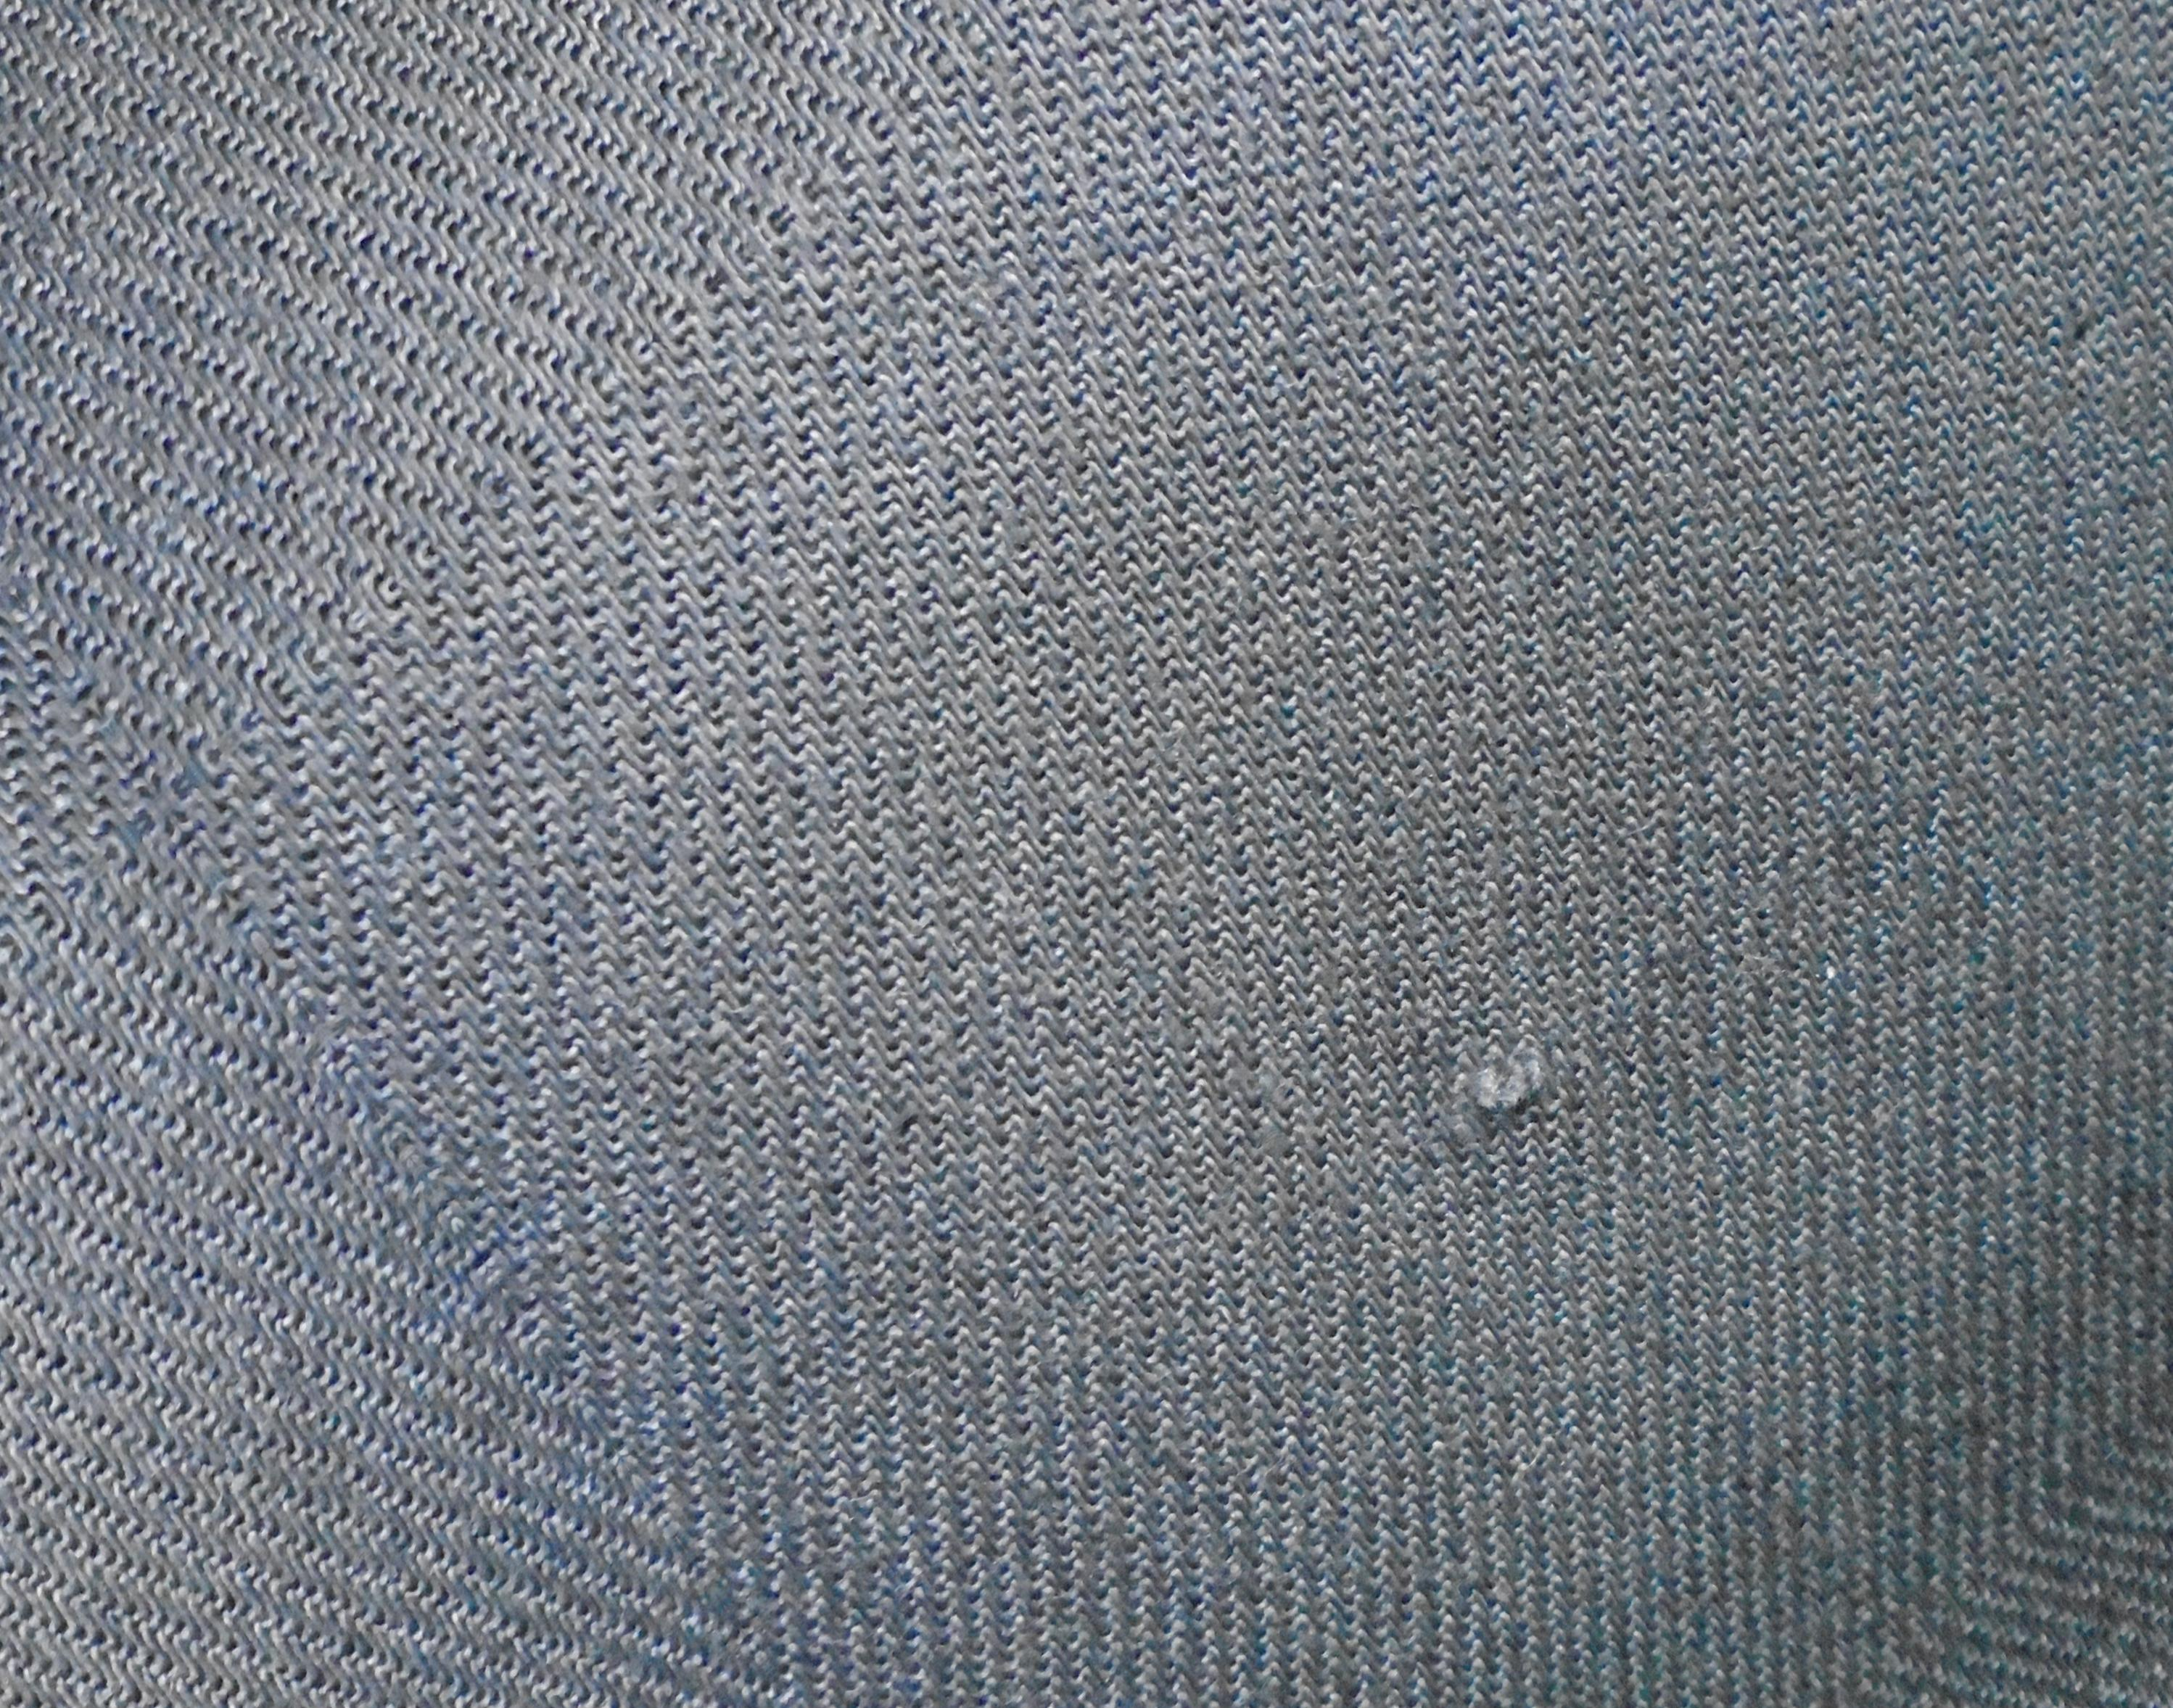knot: (1430, 1016, 1584, 1143)
